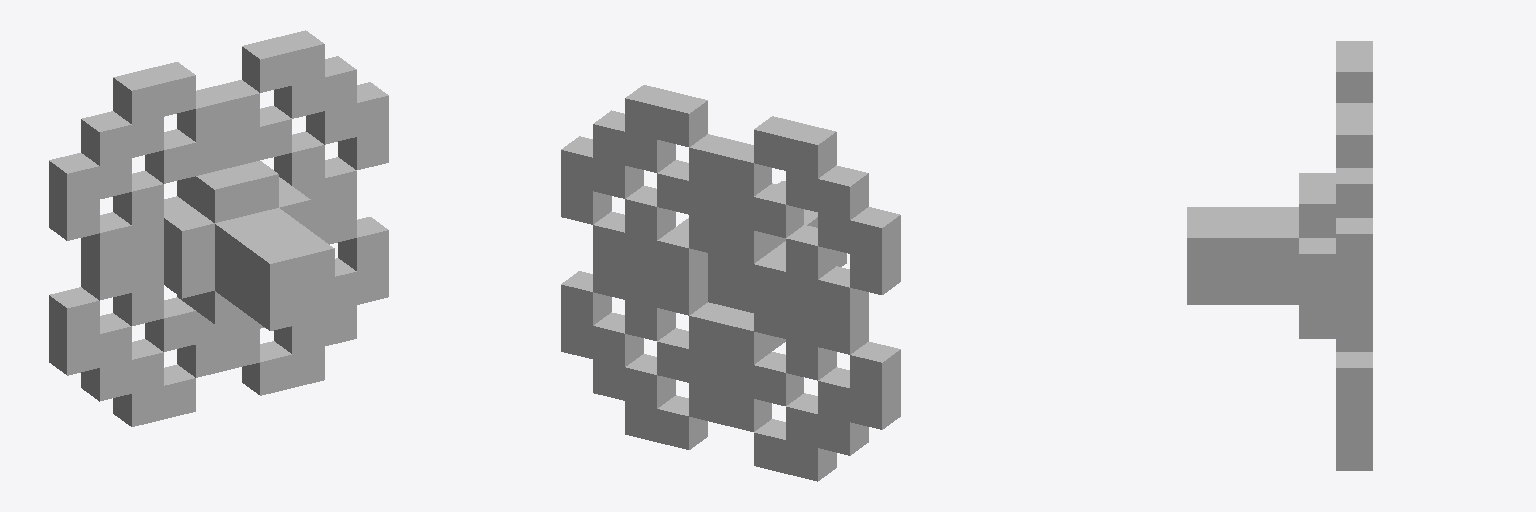
Rendered from Wheel.obj.
3 renders of one model, left to right at view 1: azimuth 30°, elevation 25°; view 2: azimuth 150°, elevation 25°; view 3: azimuth 270°, elevation 25°, orthographic.
Visible parts, largest first — view 1: object 1; view 2: object 1; view 3: object 1.
Part boxes in pixels (x1,y1,x2,y2): object 1: (49, 30, 388, 426); object 1: (561, 85, 900, 481); object 1: (1187, 41, 1372, 470).
Bounding box in the file's own units: 1 × 1 × 0.5.